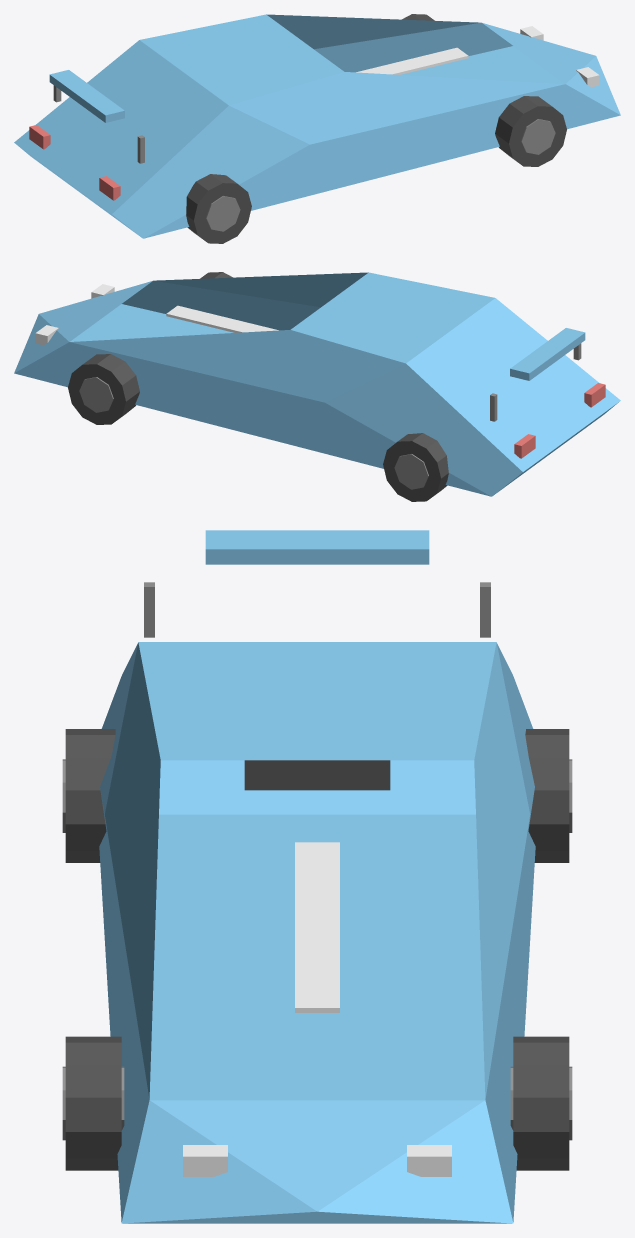
Rendered from car_sport.glb.
The picture shows the model from 3 angles, top to bottom: view 1: azimuth 30°, elevation 25°; view 2: azimuth 150°, elevation 25°; view 3: azimuth 270°, elevation 25°; orthographic projection. The views are drawn at different scales.
Visible parts, largest first — view 1: car_sport; view 2: car_sport; view 3: car_sport.
Boxes of the visible parts, bbox=[...] form: car_sport: bbox=[14, 14, 620, 243]; car_sport: bbox=[14, 272, 620, 501]; car_sport: bbox=[62, 530, 572, 1223].
Bounding box in the file's own units: 2.2 × 0.485 × 0.91.
